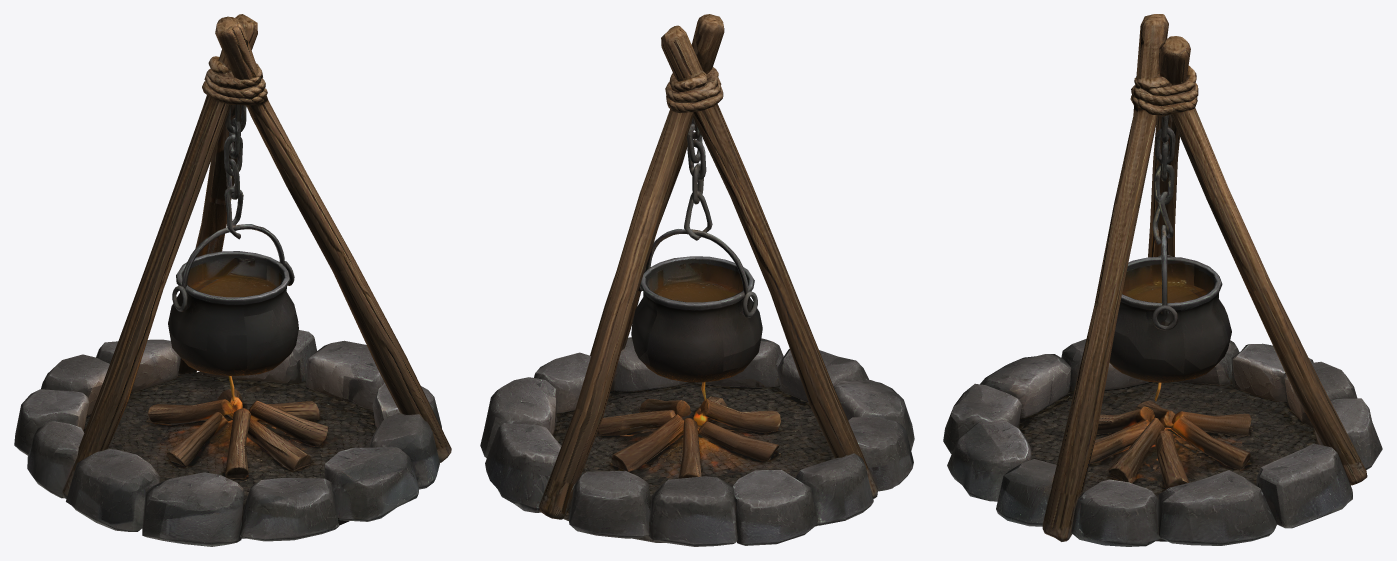
The model's file is a228_sacayak_ustunde_kazan.glb.
3 views of the same model, side by side, from view 1: azimuth 30°, elevation 25°; view 2: azimuth 150°, elevation 25°; view 3: azimuth 270°, elevation 25° (orthographic).
Parts seen in each view (by area): view 1: mesh_node; view 2: mesh_node; view 3: mesh_node.
Boxes of the visible parts, bbox=[...] form: mesh_node: bbox=[14, 14, 451, 546]; mesh_node: bbox=[480, 14, 914, 546]; mesh_node: bbox=[943, 14, 1382, 546].
Bounding box in the file's own units: 0.8613 × 1 × 0.8945.
1 material, 1 textured.
